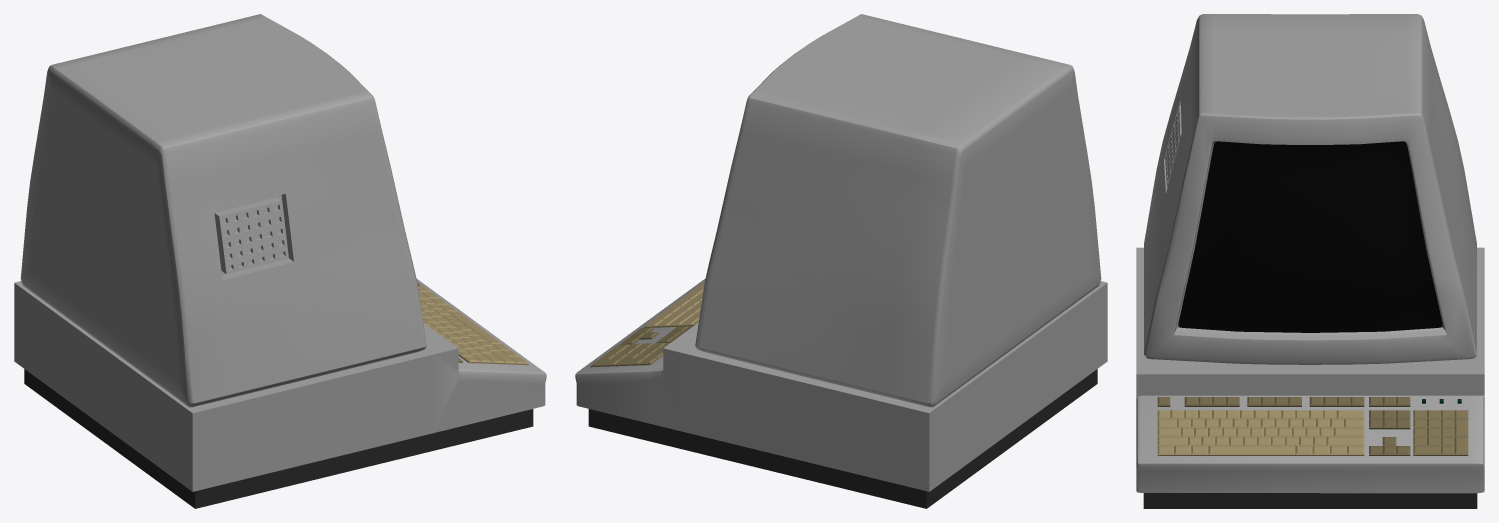
The model's file is Monitor_05.glb.
The picture shows the model from 3 angles, left to right: view 1: azimuth 30°, elevation 25°; view 2: azimuth 150°, elevation 25°; view 3: azimuth 270°, elevation 25°; orthographic projection. The views are drawn at different scales.
Visible parts, largest first — view 1: Mesh_Monitor_05; view 2: Mesh_Monitor_05; view 3: Mesh_Monitor_05.
Part boxes in pixels (x1,y1,x2,y2): Mesh_Monitor_05: [14, 14, 546, 508]; Mesh_Monitor_05: [575, 14, 1107, 508]; Mesh_Monitor_05: [1136, 14, 1484, 508].
Size of the model in its own units: 0.6903 by 0.6333 by 0.5994.
1 material, 1 textured.
